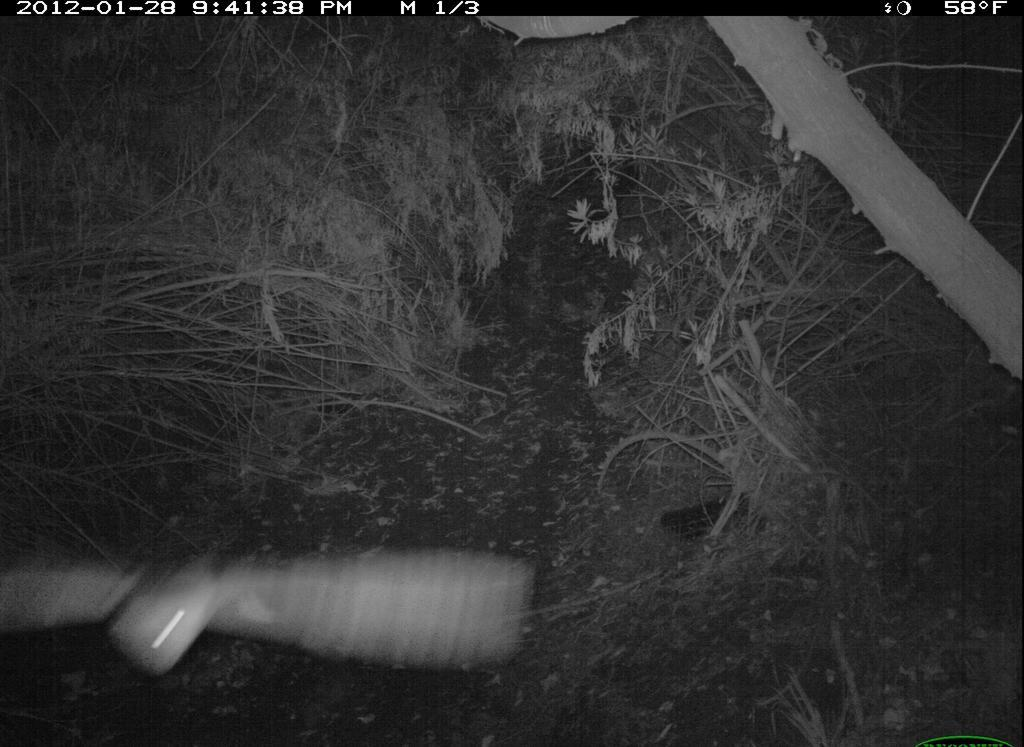opossum: (7, 505, 551, 708)
